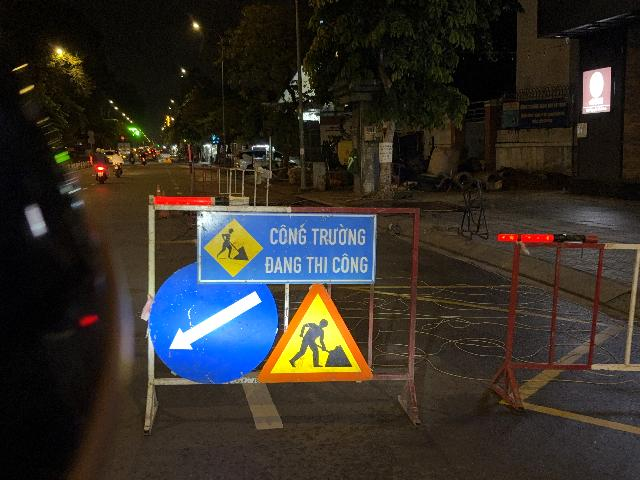cong-truong-dang-thi-cong: (258, 283, 373, 381)
huong-phai-di-vong-chuong-ngai-vat: (148, 262, 279, 386)
